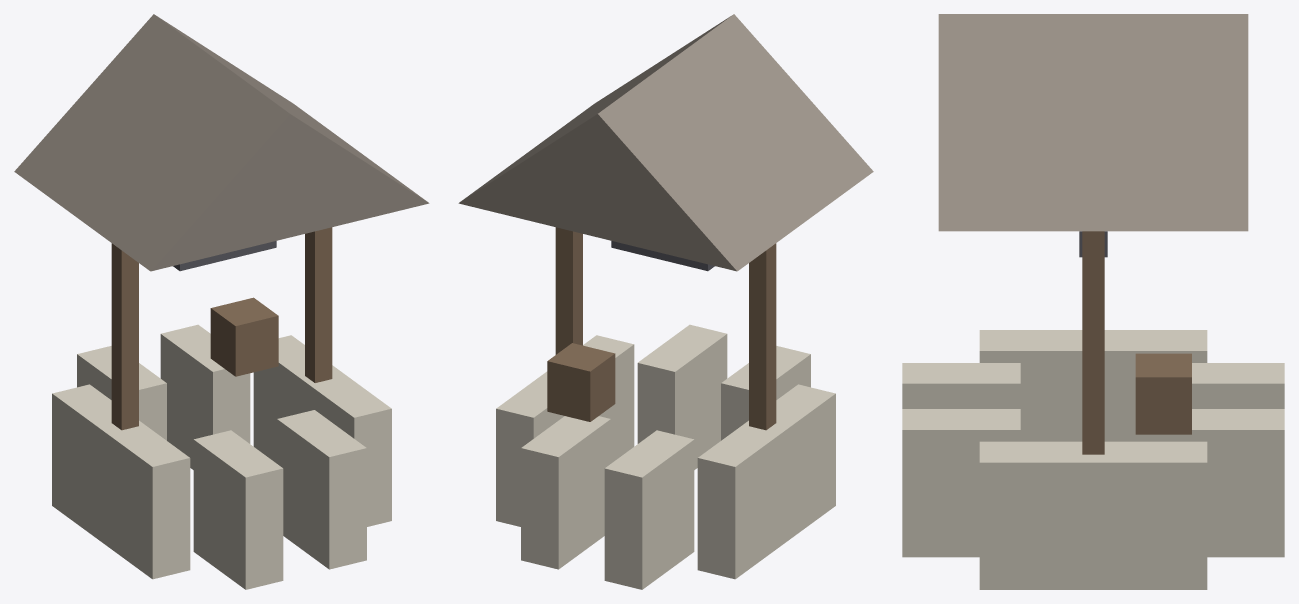
File: town_well.glb
3 views of the same model, side by side, from view 1: azimuth 30°, elevation 25°; view 2: azimuth 150°, elevation 25°; view 3: azimuth 270°, elevation 25° (orthographic). The views are drawn at different scales.
Visible parts, largest first — view 1: TownWell; view 2: TownWell; view 3: TownWell.
Boxes of the visible parts, bbox=[...] form: TownWell: bbox=[14, 14, 429, 589]; TownWell: bbox=[458, 14, 873, 589]; TownWell: bbox=[902, 14, 1284, 589].
Bounding box in the file's own units: 2.6 × 4 × 2.72.
